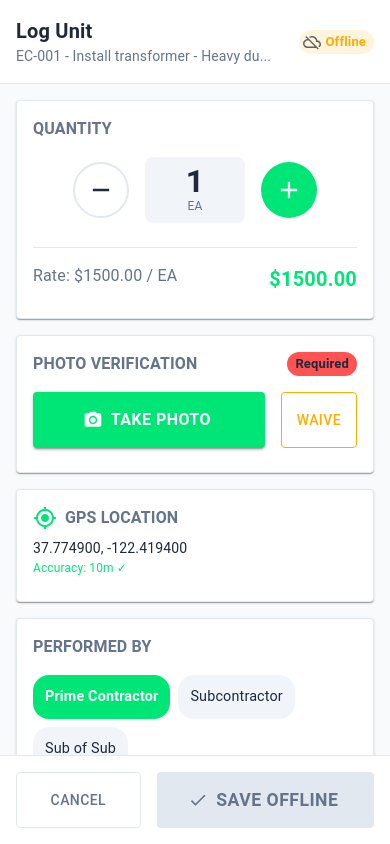
Test: UnitEntryForm Component › Quantity Section › should increment quantity
Click the button named "Increase quantity" at (289, 190), box [261,162,317,218]
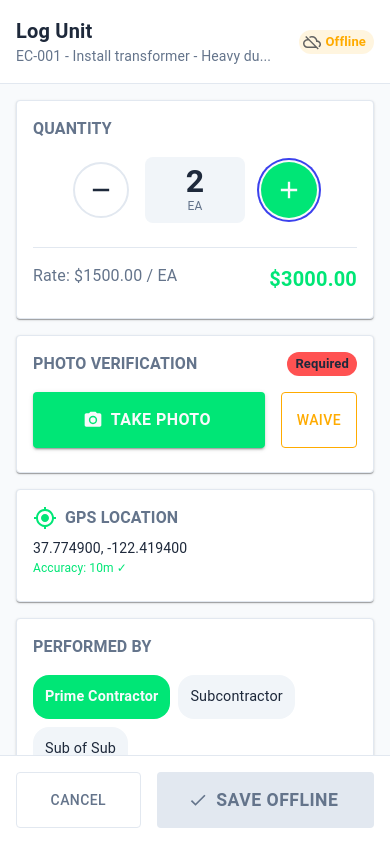
Expected: the text "2" is shown, [186,162,204,200]
